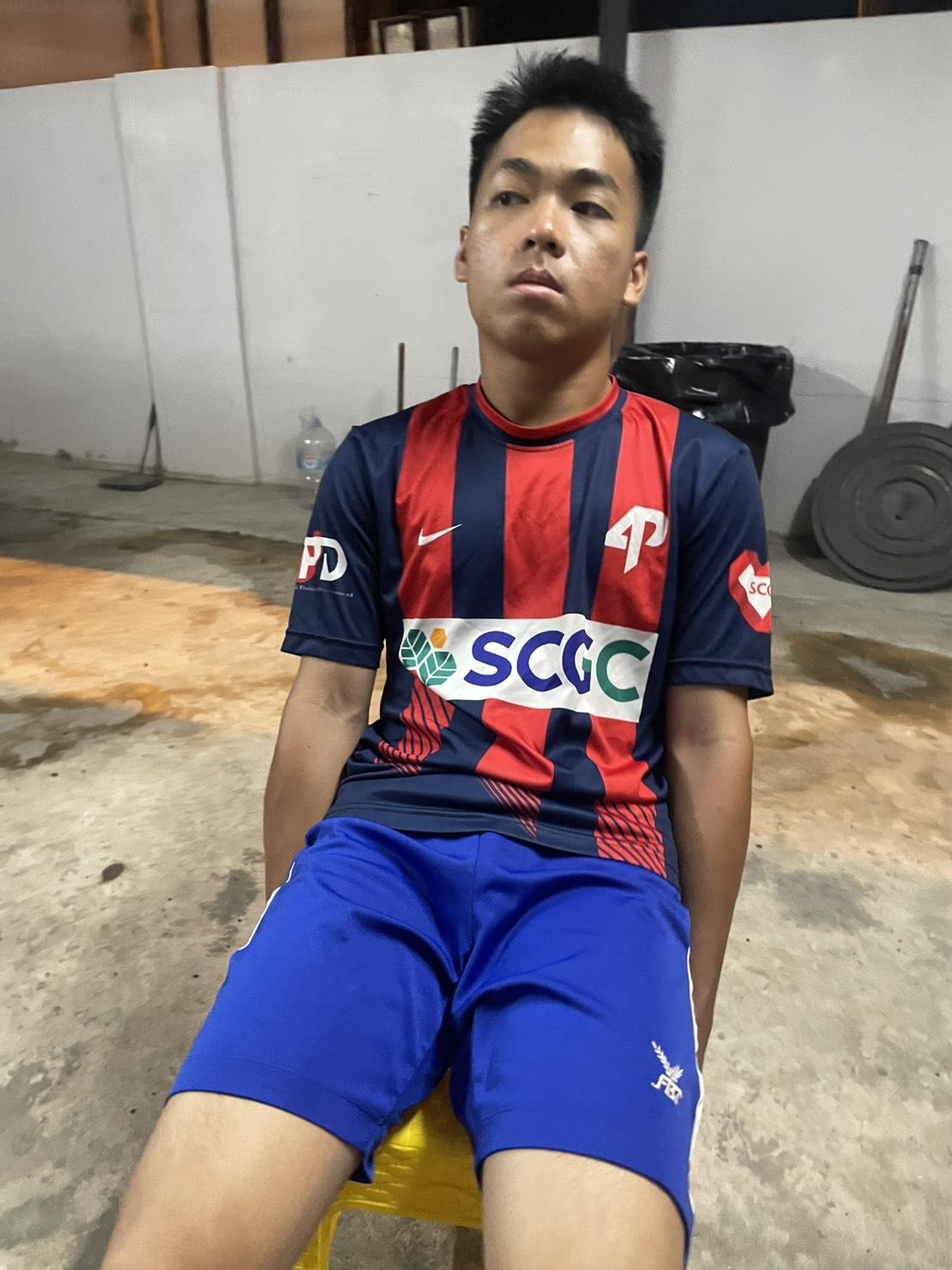BadPosture: (262, 52, 772, 995), (265, 54, 772, 894)
